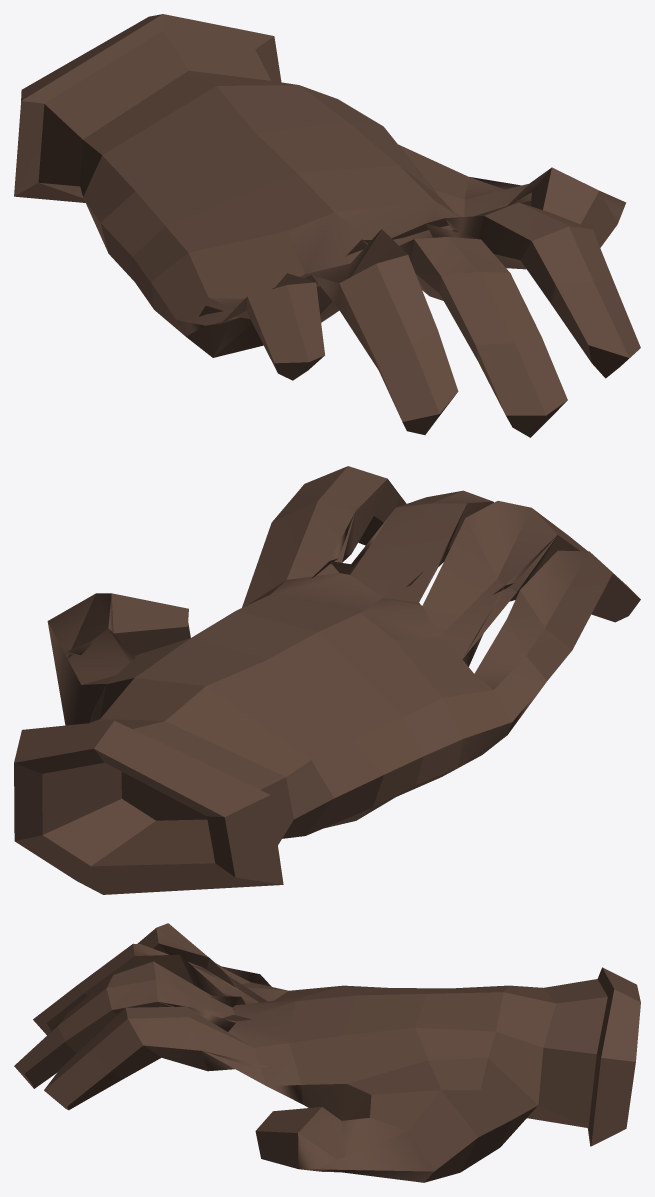
The model's file is glove2.glb.
3 views of the same model, one above another, from view 1: azimuth 30°, elevation 25°; view 2: azimuth 150°, elevation 25°; view 3: azimuth 270°, elevation 25° (orthographic). The views are drawn at different scales.
Parts seen in each view (by area): view 1: Glove; view 2: Glove; view 3: Glove.
Part boxes in pixels (<box>): Glove: <box>14,14,640,437</box>; Glove: <box>14,466,640,894</box>; Glove: <box>14,923,640,1182</box>.
Bounding box in the file's own units: 0.6267 × 0.2707 × 0.9431.
